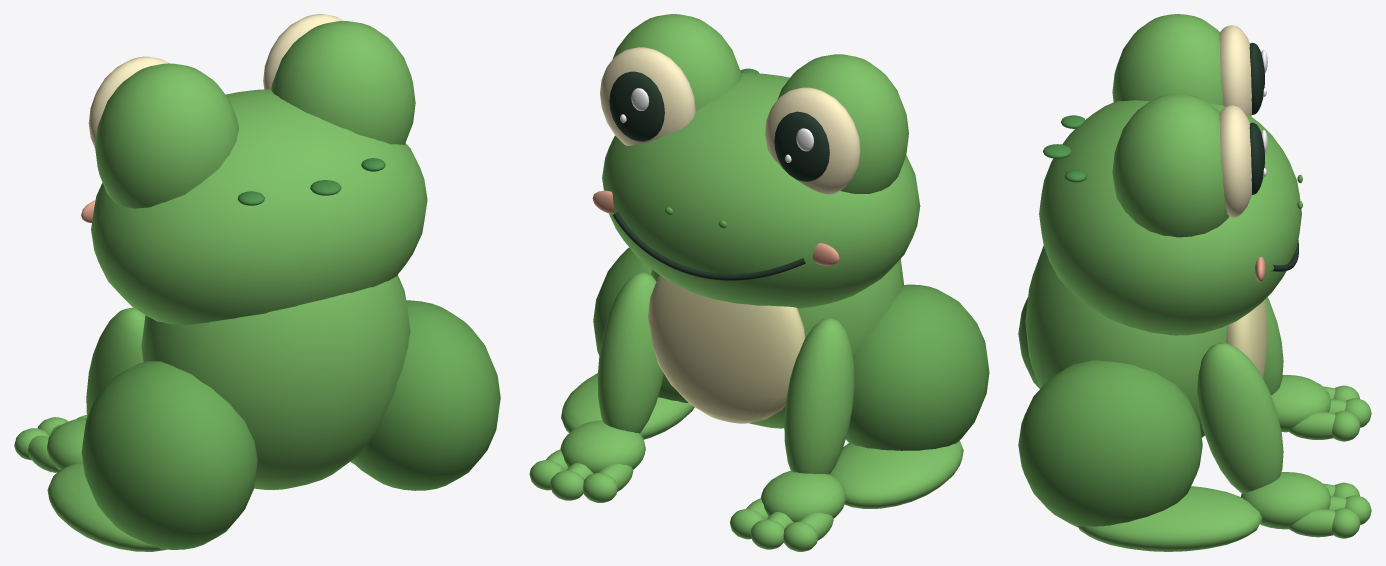
Rendered from froppy.glb.
The picture shows the model from 3 angles, left to right: view 1: azimuth 30°, elevation 25°; view 2: azimuth 150°, elevation 25°; view 3: azimuth 270°, elevation 25°; orthographic projection. The views are drawn at different scales.
Parts seen in each view (by area): view 1: Head, Body, Haunch_Left, Haunch_Right, EyePod_Left, EyePod_Right, RearFoot_Left, Forearm_Left, Eye_Left, Palm_Left, Eye_Right, Finger_Left_1; view 2: Head, Haunch_Left, Belly, Forearm_Left, EyePod_Left, Forearm_Right, RearFoot_Left, EyePod_Right, Eye_Left, Eye_Right, Body, Palm_Left (+12 smaller); view 3: Head, Haunch_Right, EyePod_Right, Body, Forearm_Right, EyePod_Left, RearFoot_Right, Palm_Right, Eye_Right, Eye_Left, Palm_Left, Belly (+10 smaller).
Boxes of the visible parts, bbox=[...] form: Head: bbox=[91, 89, 427, 324]; Body: bbox=[141, 275, 410, 489]; Haunch_Left: bbox=[81, 361, 257, 549]; Haunch_Right: bbox=[351, 300, 500, 490]; EyePod_Left: bbox=[95, 63, 238, 208]; EyePod_Right: bbox=[271, 21, 415, 144]; RearFoot_Left: bbox=[47, 462, 166, 551]; Forearm_Left: bbox=[86, 307, 145, 416]; Eye_Left: bbox=[88, 56, 168, 148]; Palm_Left: bbox=[47, 418, 86, 470]; Eye_Right: bbox=[263, 14, 343, 89]; Finger_Left_1: bbox=[28, 435, 59, 472]; Head: bbox=[602, 73, 920, 308]; Haunch_Left: bbox=[846, 284, 989, 450]; Belly: bbox=[648, 275, 805, 423]; Forearm_Left: bbox=[784, 318, 854, 474]; EyePod_Left: bbox=[777, 54, 908, 193]; Forearm_Right: bbox=[597, 272, 663, 433]; RearFoot_Left: bbox=[830, 440, 963, 508]; EyePod_Right: bbox=[612, 14, 741, 111]; Eye_Left: bbox=[765, 87, 860, 194]; Eye_Right: bbox=[600, 47, 695, 145]; Body: bbox=[651, 259, 903, 428]; Palm_Left: bbox=[761, 471, 845, 522]; Head: bbox=[1039, 100, 1301, 335]; Haunch_Right: bbox=[1018, 360, 1202, 527]; EyePod_Right: bbox=[1112, 94, 1228, 237]; Body: bbox=[1025, 246, 1227, 437]; Forearm_Right: bbox=[1197, 343, 1283, 493]; EyePod_Left: bbox=[1112, 14, 1223, 105]; RearFoot_Right: bbox=[1077, 486, 1262, 551]; Palm_Right: bbox=[1241, 472, 1330, 529]; Eye_Right: bbox=[1219, 105, 1251, 217]; Eye_Left: bbox=[1219, 25, 1251, 116]; Palm_Left: bbox=[1271, 375, 1330, 432]; Belly: bbox=[1226, 299, 1267, 377].
Size of the model in its own units: 0.916 by 1 by 0.766.
